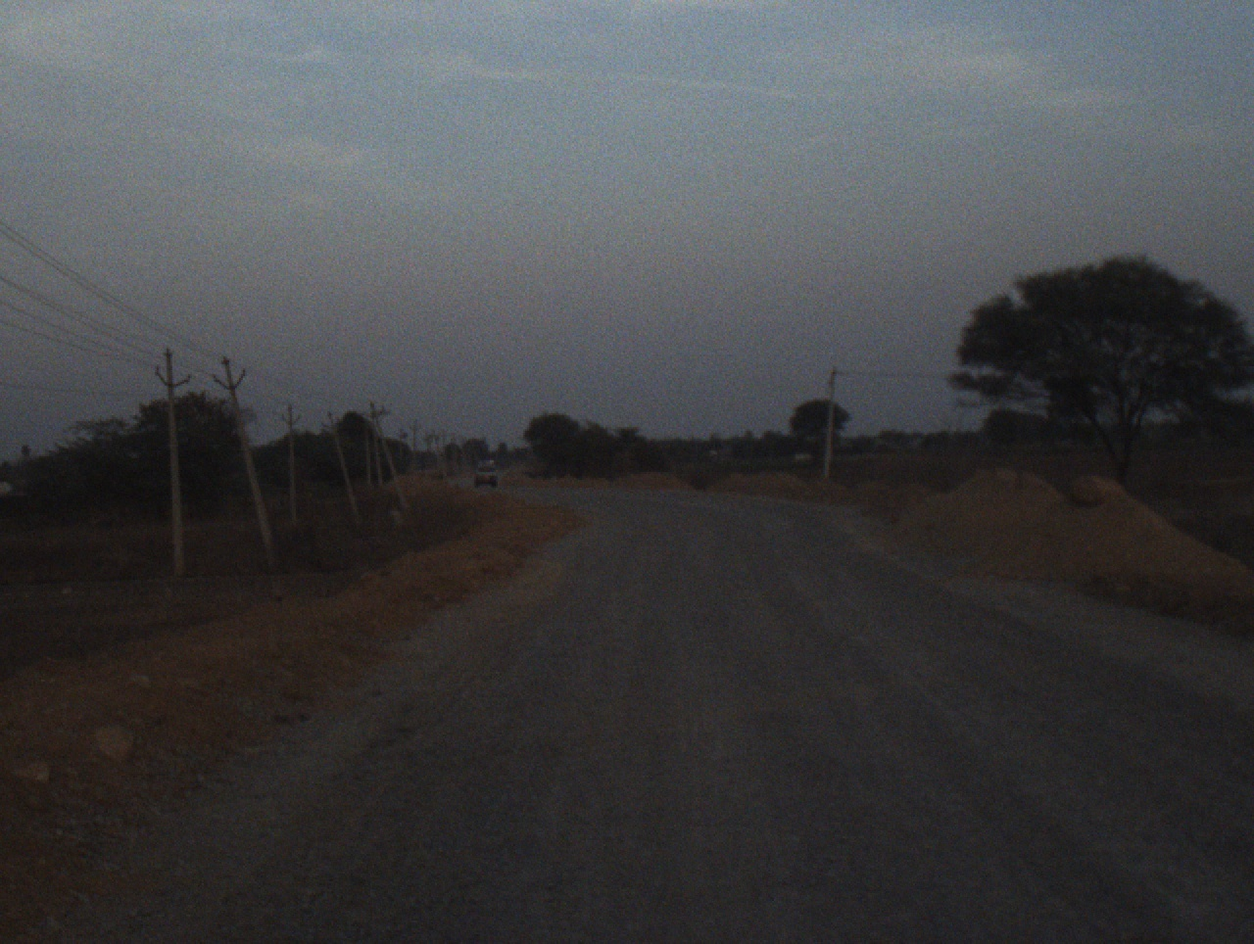car: (474, 456, 499, 487)
